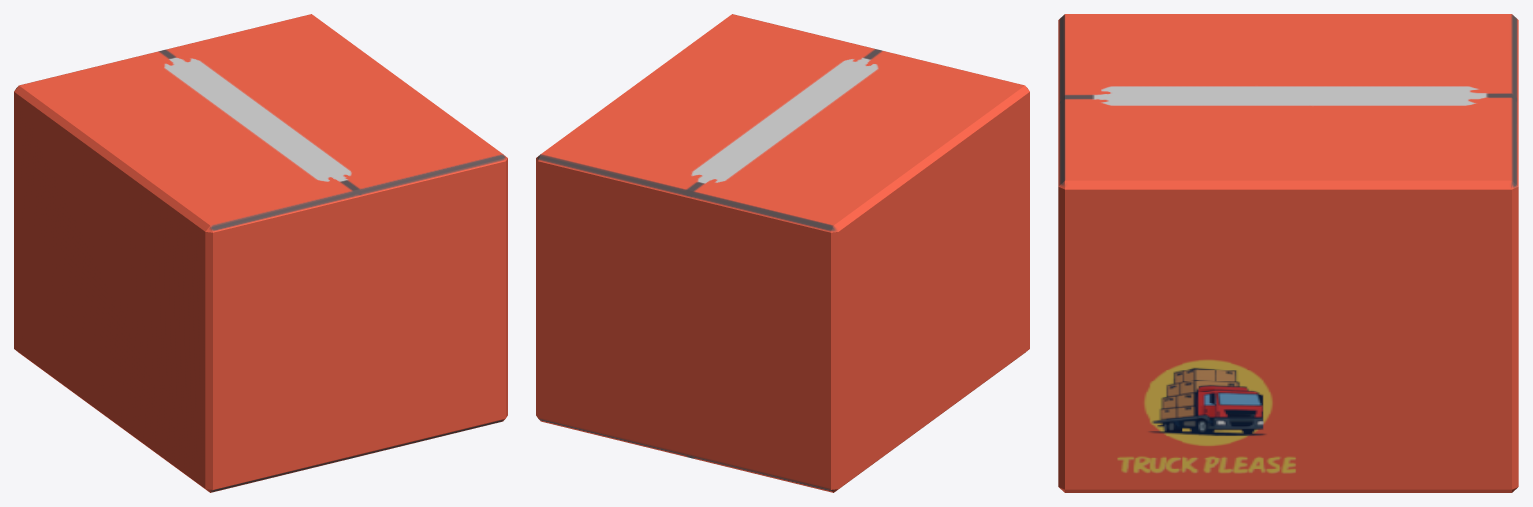
The model's file is redBoxYesTape.fbx.
3 views of the same model, side by side, from view 1: azimuth 30°, elevation 25°; view 2: azimuth 150°, elevation 25°; view 3: azimuth 270°, elevation 25° (orthographic). The views are drawn at different scales.
Parts seen in each view (by area): view 1: BasicBox; view 2: BasicBox; view 3: BasicBox.
Boxes of the visible parts, bbox=[...] form: BasicBox: bbox=[14, 14, 507, 492]; BasicBox: bbox=[536, 14, 1029, 492]; BasicBox: bbox=[1058, 14, 1518, 492].
Size of the model in its own units: 124 by 105 by 140.
Materials: 1 (1 with a texture image).
